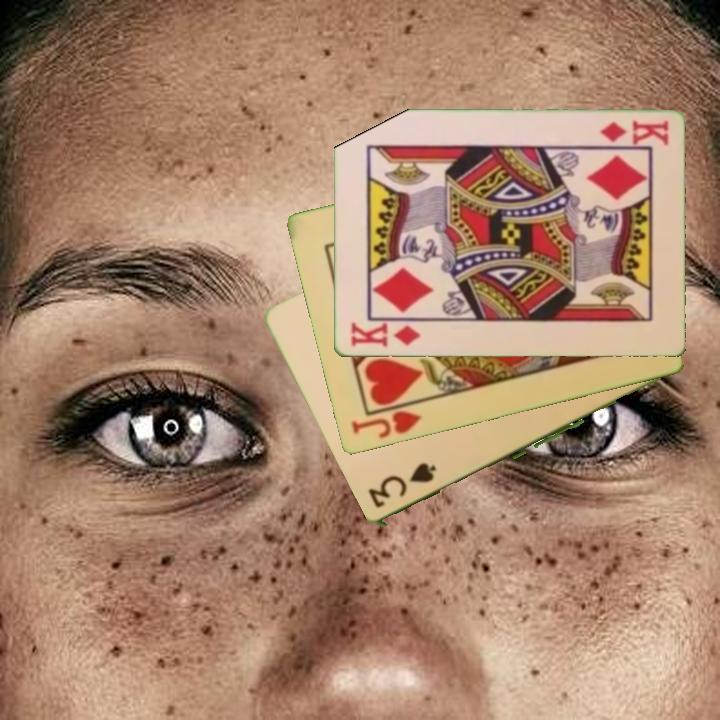3s: (366, 461, 439, 512)
Jh: (348, 397, 427, 442)
Kd: (347, 318, 427, 350), (596, 117, 671, 147)
